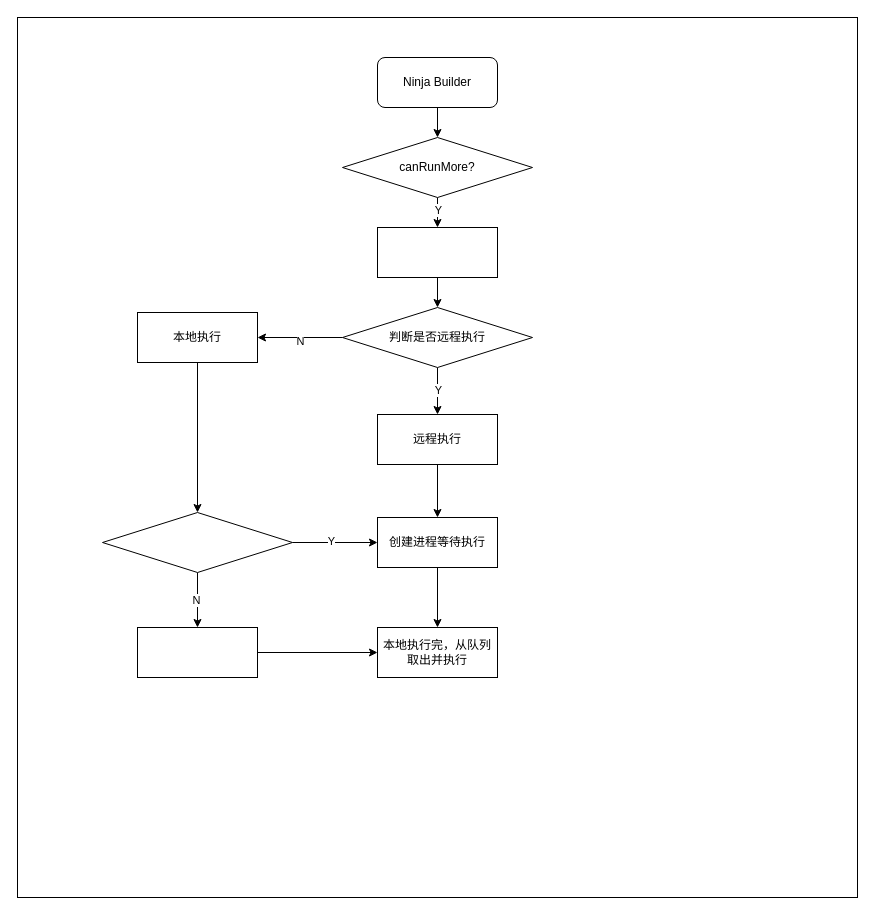
This 875x915 diagram has some shape labels left out. Here are the shapes that lost their labels. From the top down, the centre of each, then its label:
[437,252]: StartCommand
[197,542]: local_procs_.size() < parallelism?
[197,652]: 放入本地任务队列 [ local_queue_ ]
